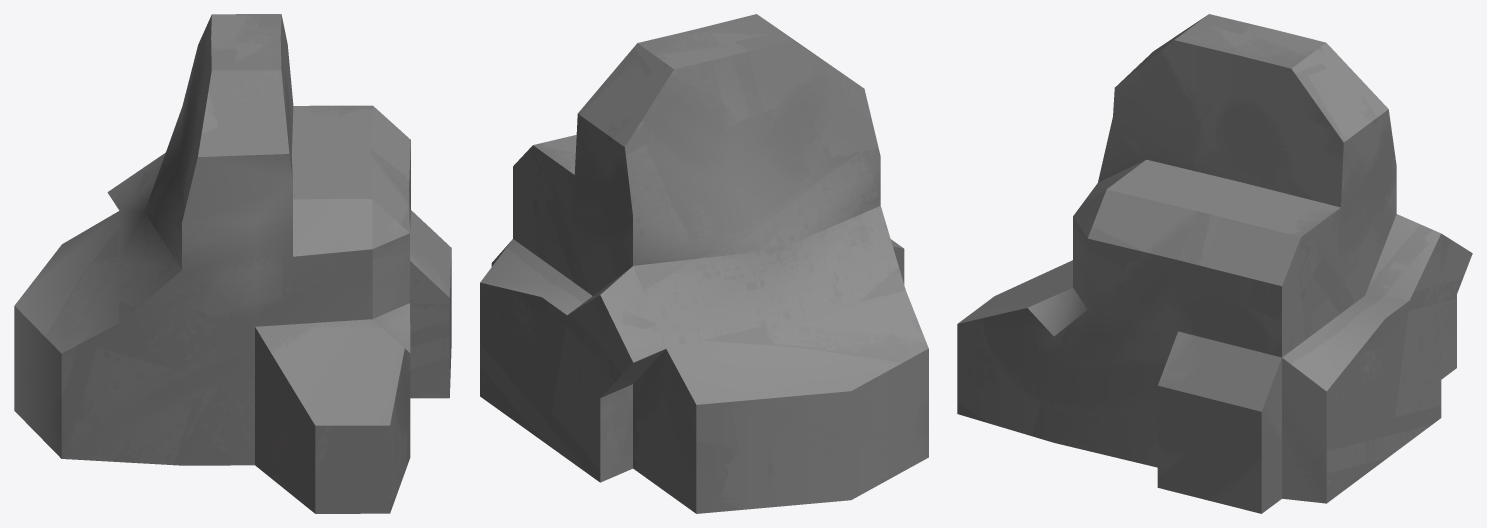
File: small rock.fbx
3 renders of one model, left to right at view 1: azimuth 30°, elevation 25°; view 2: azimuth 150°, elevation 25°; view 3: azimuth 270°, elevation 25°, orthographic. The views are drawn at different scales.
Parts seen in each view (by area): view 1: Box008; view 2: Box008; view 3: Box008.
Boxes of the visible parts, x1,y1,x2,y2 form: Box008: (14,14,451,513); Box008: (480,14,928,513); Box008: (957,14,1472,513).
Size of the model in its own units: 147 by 126 by 158.
